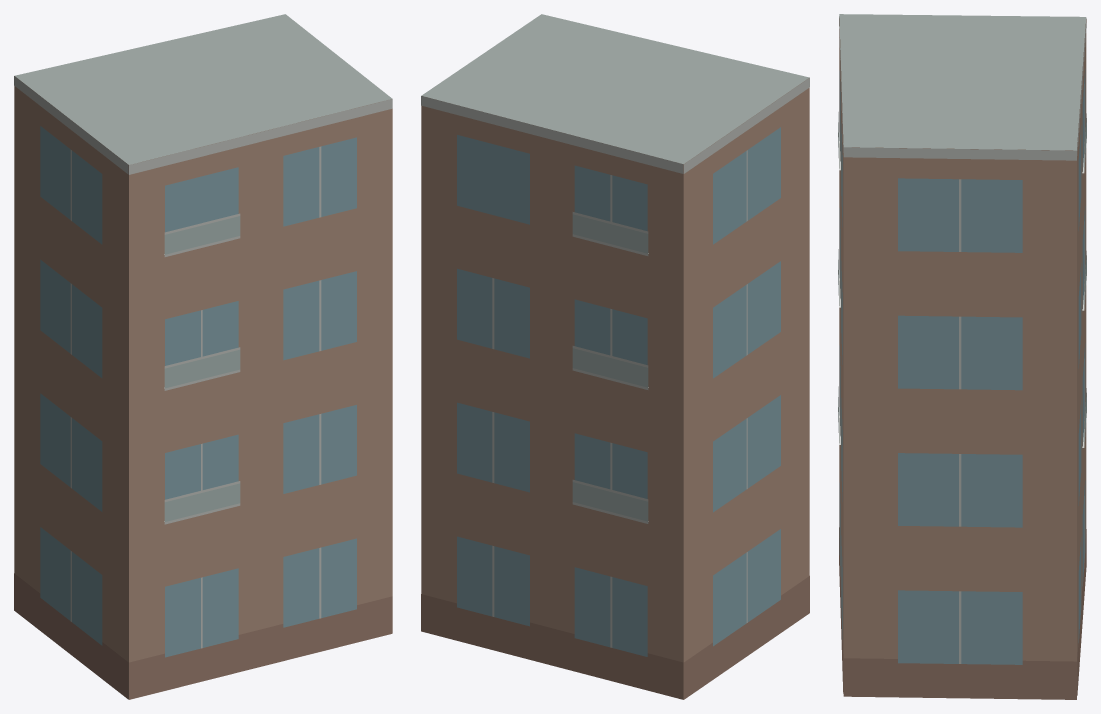
Rendered from survey-upis-32471757.glb.
The picture shows the model from 3 angles, left to right: view 1: azimuth 30°, elevation 25°; view 2: azimuth 150°, elevation 25°; view 3: azimuth 270°, elevation 25°; orthographic projection. The views are drawn at different scales.
Parts seen in each view (by area): view 1: survey-upis-32471757.tmp; view 2: survey-upis-32471757.tmp; view 3: survey-upis-32471757.tmp.
Boxes of the visible parts, x1,y1,x2,y2 form: survey-upis-32471757.tmp: (14, 14, 392, 699); survey-upis-32471757.tmp: (421, 14, 809, 699); survey-upis-32471757.tmp: (838, 14, 1086, 699).
Size of the model in its own units: 7.04 by 13.2 by 5.42.
